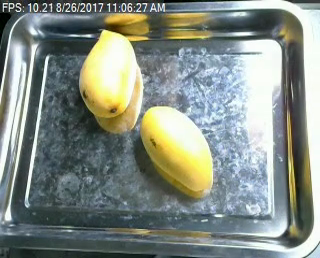Mango: (137, 101, 217, 194), (75, 25, 143, 122)
